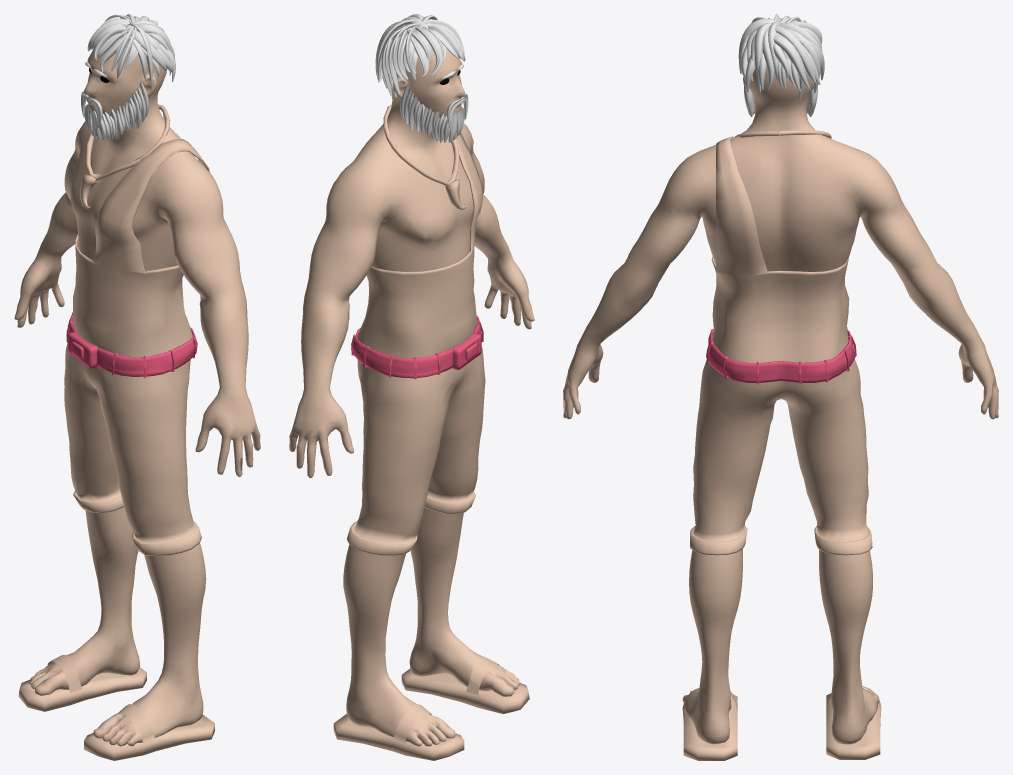
The picture shows the model from 3 angles, left to right: view 1: azimuth 30°, elevation 25°; view 2: azimuth 150°, elevation 25°; view 3: azimuth 270°, elevation 25°; orthographic projection. The views are drawn at different scales.
Parts seen in each view (by area): view 1: Body, Pants, Shirt, Hair Beard and eyebrowes, Slippers, Belt, Neckless; view 2: Body, Pants, Shirt, Hair Beard and eyebrowes, Slippers, Belt, Neckless; view 3: Body, Pants, Shirt, Hair Beard and eyebrowes, Slippers, Belt.
Part boxes in pixels (x1,y1,x2,y2): Body: (14,36,260,746); Pants: (64,344,201,555); Shirt: (72,139,209,357); Hair Beard and eyebrowes: (81,14,175,140); Slippers: (18,654,214,760); Belt: (66,312,197,377); Neckless: (86,104,170,181); Body: (289,49,534,746); Pants: (346,347,485,555); Shirt: (357,133,482,358); Hair Beard and eyebrowes: (375,14,468,143); Slippers: (333,657,529,760); Belt: (351,315,483,379); Neckless: (383,105,459,186); Body: (563,66,998,744); Pants: (690,359,872,555); Shirt: (711,136,849,362); Hair Beard and eyebrowes: (738,14,824,116); Slippers: (682,686,881,760); Belt: (706,329,856,384).
Size of the model in its own units: 97.54 by 489 by 269.
